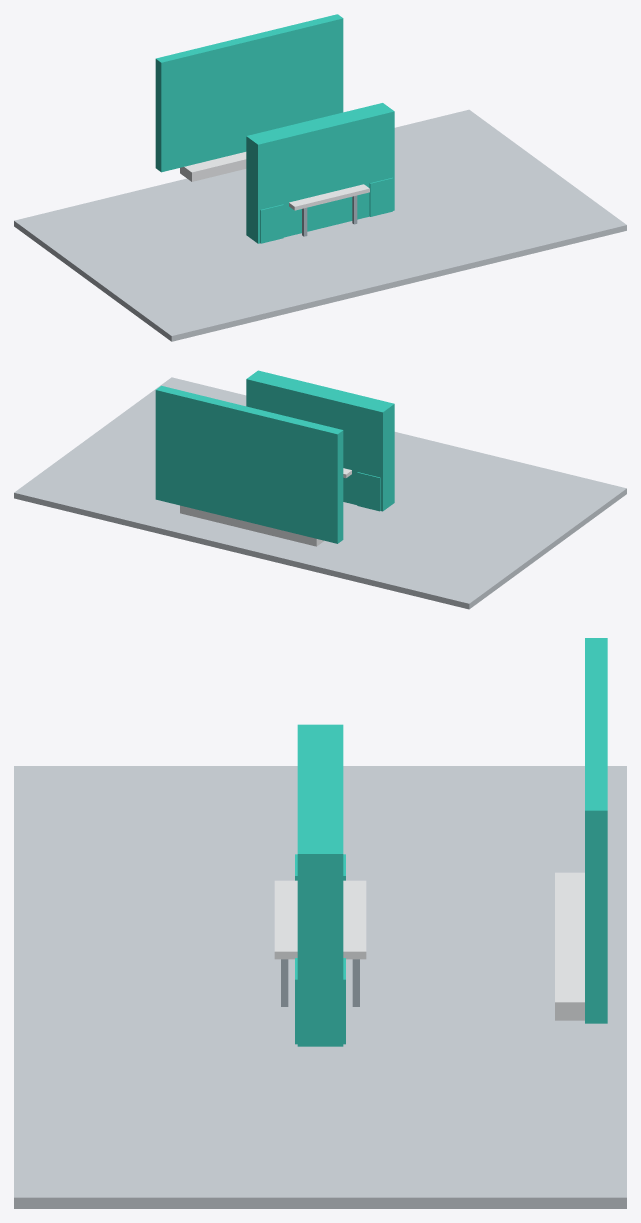
3 renders of one model, top to bottom at view 1: azimuth 30°, elevation 25°; view 2: azimuth 150°, elevation 25°; view 3: azimuth 270°, elevation 25°, orthographic. The views are drawn at different scales.
Visible parts, largest first — view 1: Exhibition Booth Concept; view 2: Exhibition Booth Concept; view 3: Exhibition Booth Concept.
Boxes of the visible parts, x1,y1,x2,y2 form: Exhibition Booth Concept: [14, 14, 626, 341]; Exhibition Booth Concept: [14, 370, 626, 609]; Exhibition Booth Concept: [14, 638, 626, 1208].
Bounding box in the file's own units: 10 × 2.9 × 6.
